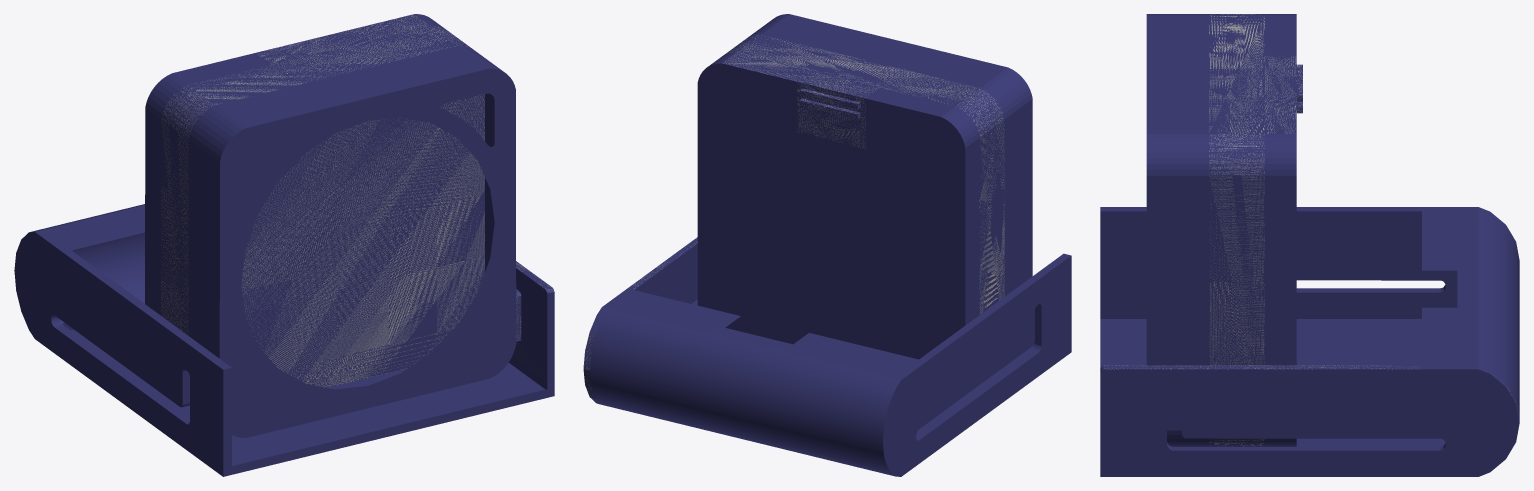
Rendered from body.dae.
3 renders of one model, left to right at view 1: azimuth 30°, elevation 25°; view 2: azimuth 150°, elevation 25°; view 3: azimuth 270°, elevation 25°, orthographic. The views are drawn at different scales.
Parts seen in each view (by area): view 1: group_0_004, group_0_009, group_0_010, group_0_002, group_0_003, group_0_001; view 2: group_0_003, group_0_010, group_0_002, group_0_004, group_0_001, group_0_008, group_0_007; view 3: group_0_010, group_0_004, group_0_002, group_0_003, group_0_013, group_0_011, group_0_001.
Boxes of the visible parts, x1,y1,x2,y2 form: group_0_004: (188, 46, 516, 437); group_0_009: (241, 94, 484, 387); group_0_010: (14, 204, 554, 476); group_0_002: (161, 14, 473, 335); group_0_003: (145, 14, 444, 315); group_0_001: (51, 314, 189, 424); group_0_003: (697, 53, 979, 359); group_0_010: (590, 244, 1071, 476); group_0_002: (722, 34, 1004, 314); group_0_004: (748, 14, 1032, 296); group_0_001: (916, 304, 1041, 440); group_0_008: (799, 98, 860, 119); group_0_007: (799, 88, 860, 109); group_0_010: (1100, 207, 1519, 476); group_0_004: (1146, 14, 1209, 446); group_0_002: (1209, 14, 1296, 446); group_0_003: (1264, 14, 1296, 446); group_0_013: (1100, 365, 1421, 371); group_0_011: (1167, 442, 1445, 450); group_0_001: (1296, 285, 1445, 292).
Size of the model in its own units: 0.0615 by 0.0671 by 0.0569.
